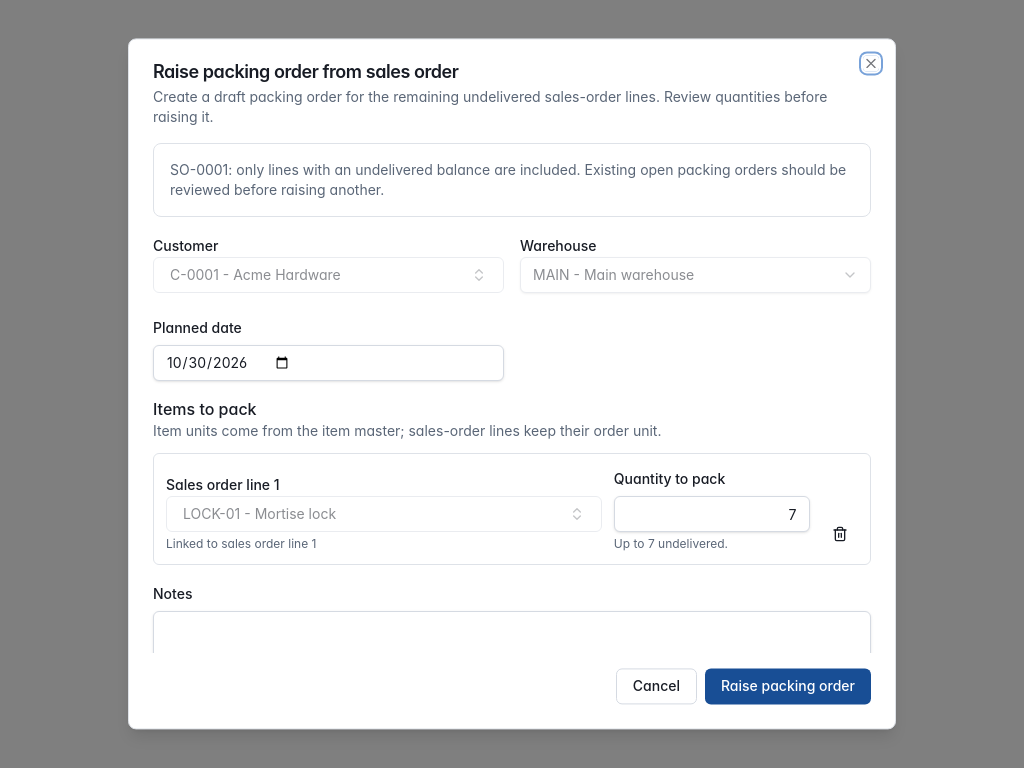
Test: raising packing orders › rejects quantities above the undelivered sales-order balance before posting
Replace the text in the field labelled "Quantity to pack" with "8". click: (712, 514)
box: [614,496,810,532]
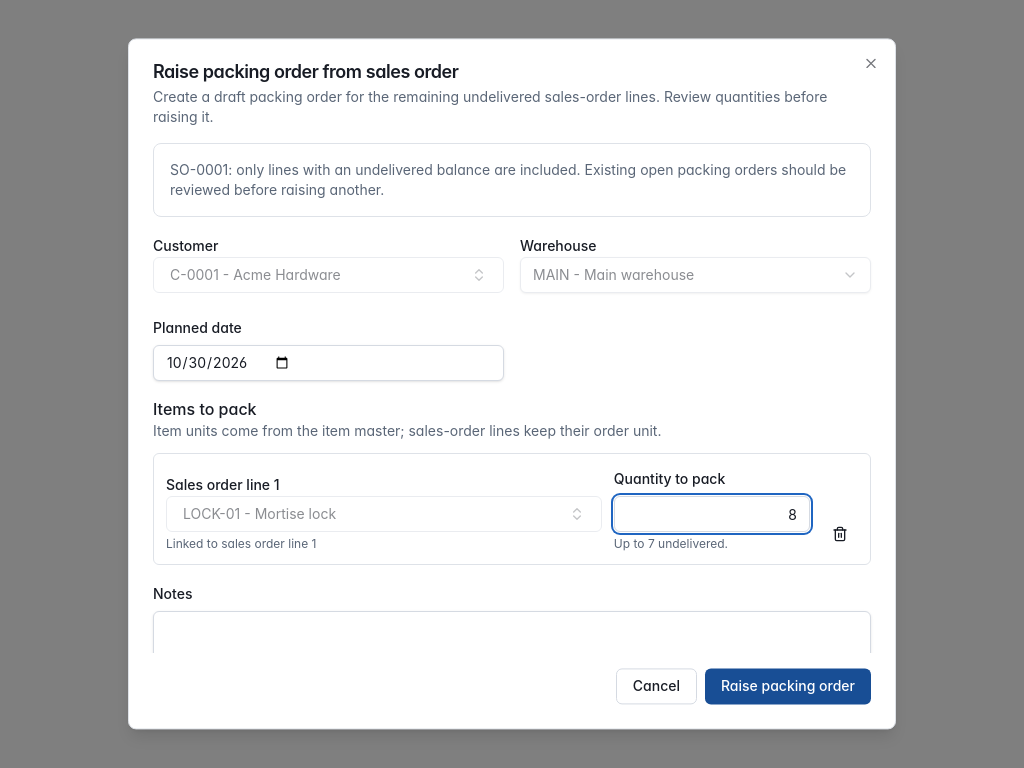
Click the button "Raise packing order". click: click(788, 687)
box: [705,669,871,705]
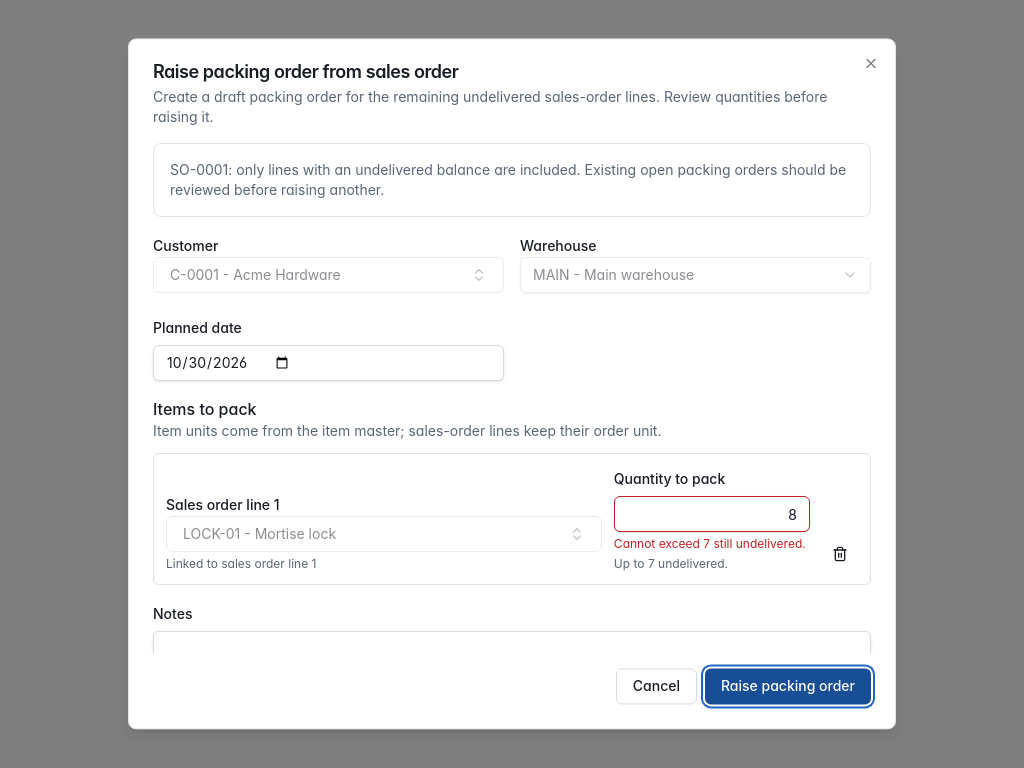
expect the text "Cannot exceed 7 still undelivered." is shown: met, box [614,536,810,552]
